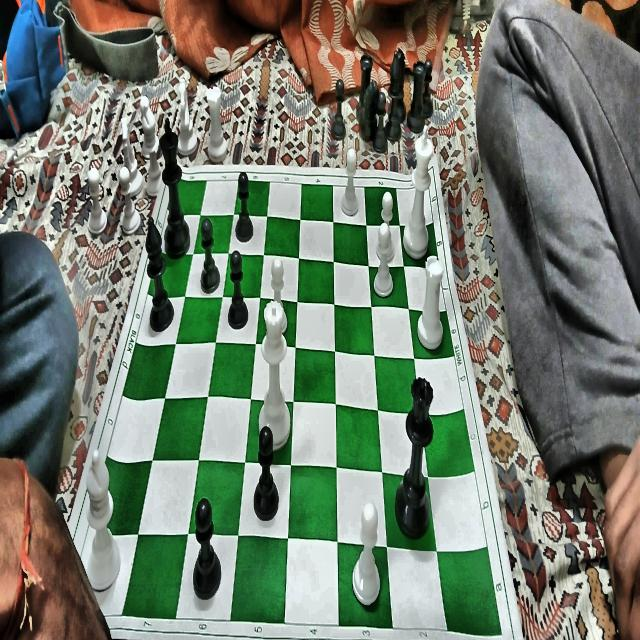BlackBishop: (144, 216, 174, 333), (388, 49, 401, 142)
BlackKing: (159, 117, 190, 258)
BlackPawn: (192, 497, 222, 601), (252, 426, 279, 522), (199, 218, 221, 294), (228, 250, 248, 328), (235, 173, 254, 240), (372, 91, 390, 154), (331, 78, 347, 141), (423, 59, 433, 120)
BlackQueen: (394, 377, 433, 541)
BlackRook: (408, 59, 426, 135), (356, 51, 374, 123)
WhiteBishop: (84, 450, 120, 590), (141, 100, 162, 196)
WhiteKing: (403, 123, 433, 258)
WhiteKnight: (120, 118, 144, 196), (177, 77, 198, 155)
WhitePawn: (353, 501, 380, 607), (117, 163, 141, 234), (373, 222, 393, 297), (270, 260, 288, 335), (376, 191, 394, 262), (88, 166, 107, 233), (341, 148, 359, 214)
WhiteQueen: (258, 300, 290, 451)
WhiteRook: (416, 254, 444, 351), (206, 85, 228, 162)
